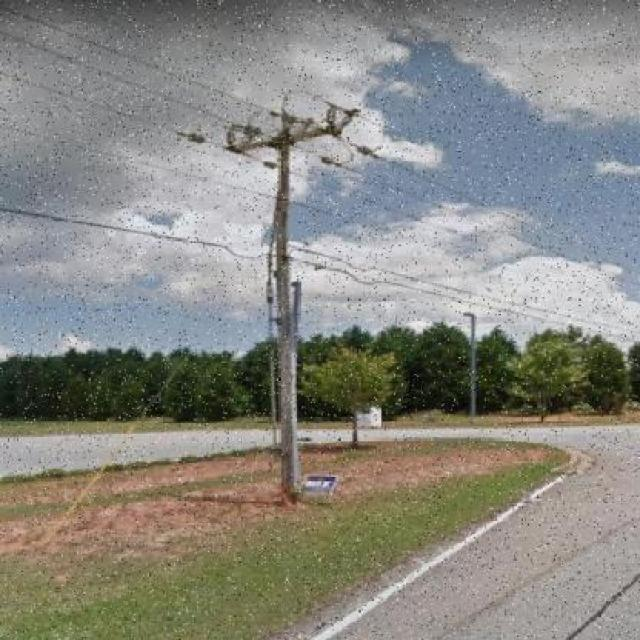pole: (122, 41, 438, 542)
